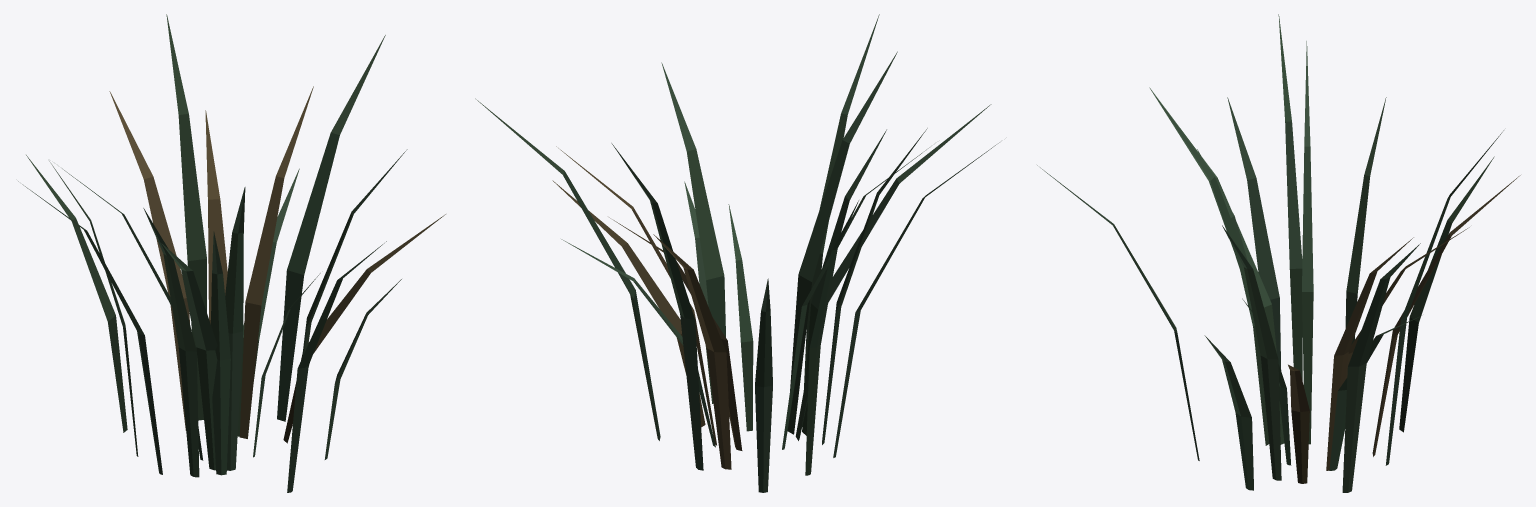
File: pasto-del-bosque.glb
The picture shows the model from 3 angles, left to right: view 1: azimuth 30°, elevation 25°; view 2: azimuth 150°, elevation 25°; view 3: azimuth 270°, elevation 25°; orthographic projection. The views are drawn at different scales.
Parts seen in each view (by area): view 1: Mata de pasto; view 2: Mata de pasto; view 3: Mata de pasto.
Part boxes in pixels (<box>): Mata de pasto: <box>18,14,445,492</box>; Mata de pasto: <box>475,14,999,492</box>; Mata de pasto: <box>1037,14,1520,492</box>.
Size of the model in its own units: 0.4819 by 0.3687 by 0.4674.
